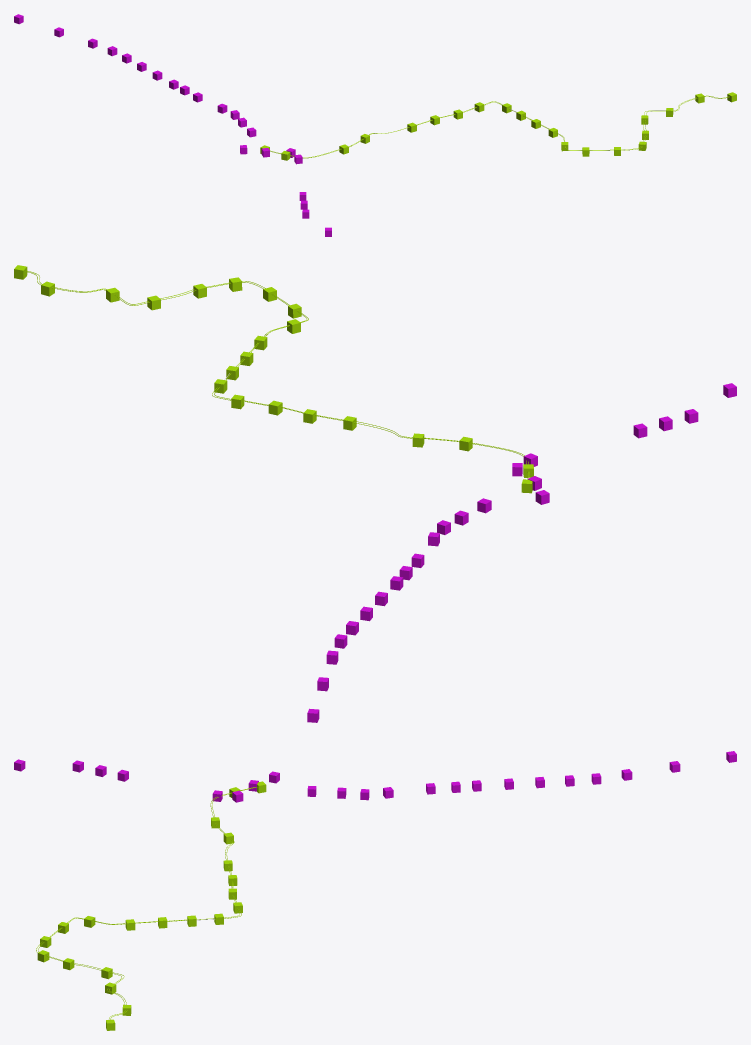
File: subway_map_G_7.glb
3 renders of one model, top to bottom at view 1: azimuth 30°, elevation 25°; view 2: azimuth 150°, elevation 25°; view 3: azimuth 270°, elevation 25°, orthographic. The views are drawn at different scales.
Bounding box in the file's own units: 31.24 × 0.4312 × 35.09.
